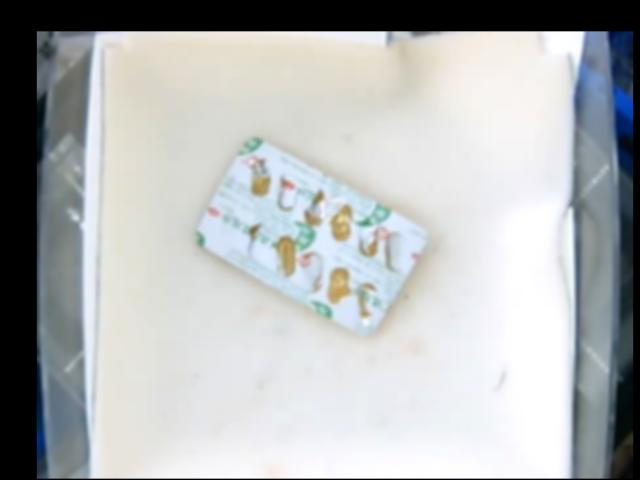Medicine: (190, 136, 427, 333)
